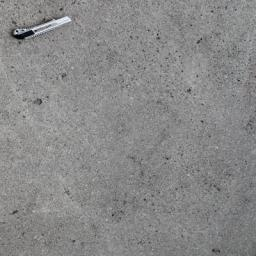FOD: (13, 15, 74, 42)
